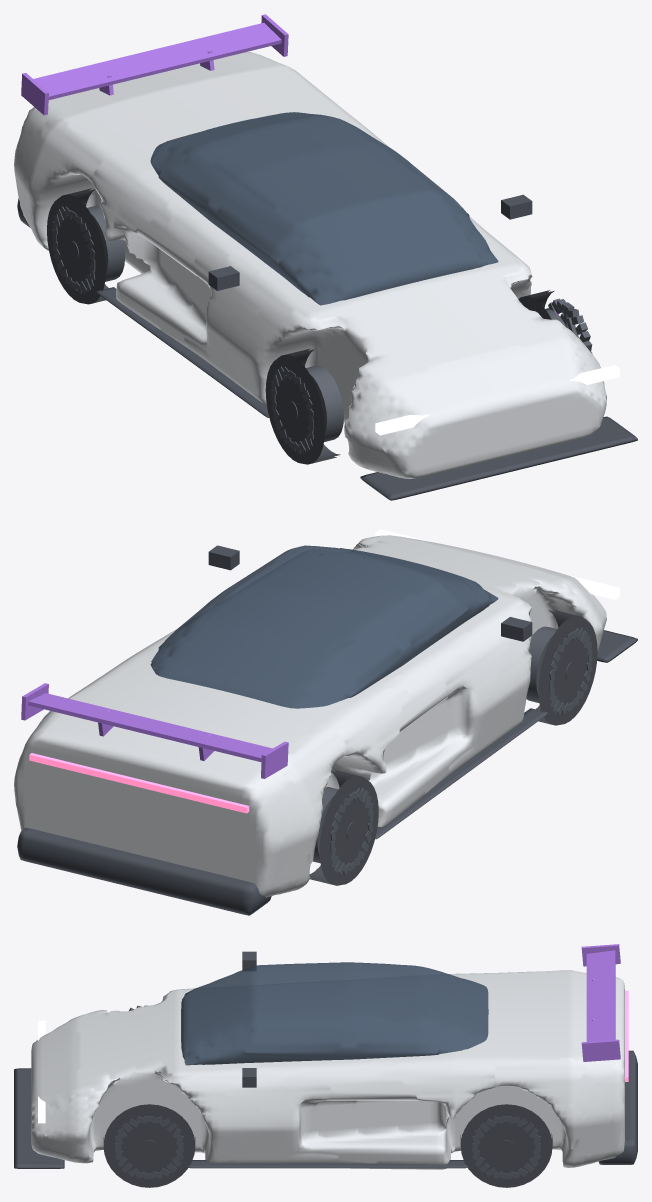
Rendered from voltstrike.glb.
3 renders of one model, top to bottom at view 1: azimuth 30°, elevation 25°; view 2: azimuth 150°, elevation 25°; view 3: azimuth 270°, elevation 25°, orthographic. The views are drawn at different scales.
Parts seen in each view (by area): view 1: Bodywork, CanopyGlass, CarbonAero (×3), TireRubber, ForgedRim, HeadlightLED; view 2: Bodywork, CanopyGlass, CarbonAero (×3), TireRubber, ForgedRim, TaillightLED, HeadlightLED; view 3: Bodywork, CanopyGlass, TireRubber, CarbonAero (×3), ForgedRim, TaillightLED.
Part boxes in pixels (x1,y1,x2,y2): Bodywork: [14, 52, 606, 478]; CanopyGlass: [150, 112, 498, 305]; CarbonAero (×3): [17, 14, 637, 500]; TireRubber: [47, 188, 554, 464]; ForgedRim: [52, 205, 592, 454]; HeadlightLED: [375, 365, 619, 435]; Bodywork: [14, 535, 606, 897]; CanopyGlass: [150, 545, 498, 708]; CarbonAero (×3): [17, 545, 637, 915]; TireRubber: [309, 609, 597, 885]; ForgedRim: [313, 626, 592, 875]; TaillightLED: [29, 753, 249, 813]; HeadlightLED: [375, 529, 619, 599]; Bodywork: [31, 970, 624, 1169]; CanopyGlass: [181, 962, 488, 1065]; TireRubber: [103, 1104, 552, 1187]; CarbonAero (×3): [14, 944, 637, 1168]; ForgedRim: [115, 1005, 540, 1178]; TaillightLED: [624, 990, 628, 1081].
Size of the model in its own units: 2.26 by 1.26 by 4.75.
